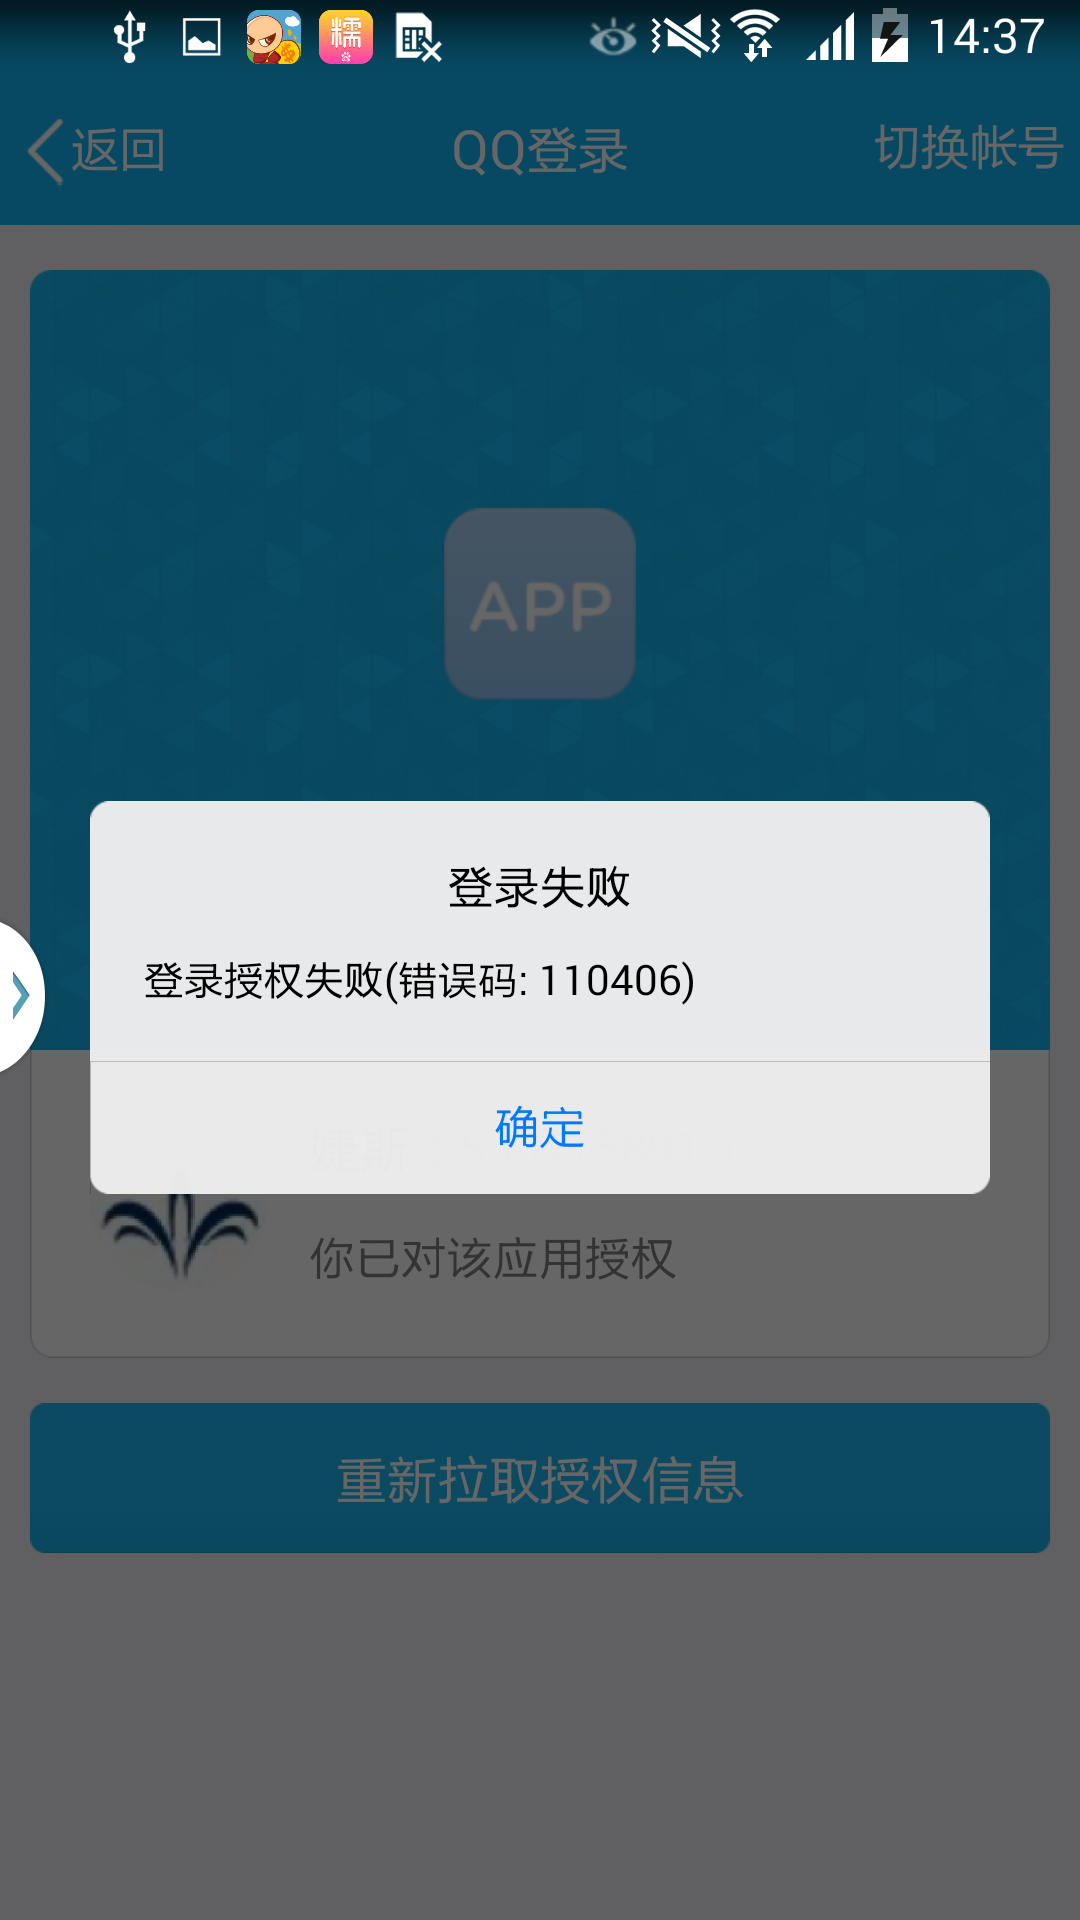textview: (124, 938, 720, 1033)
